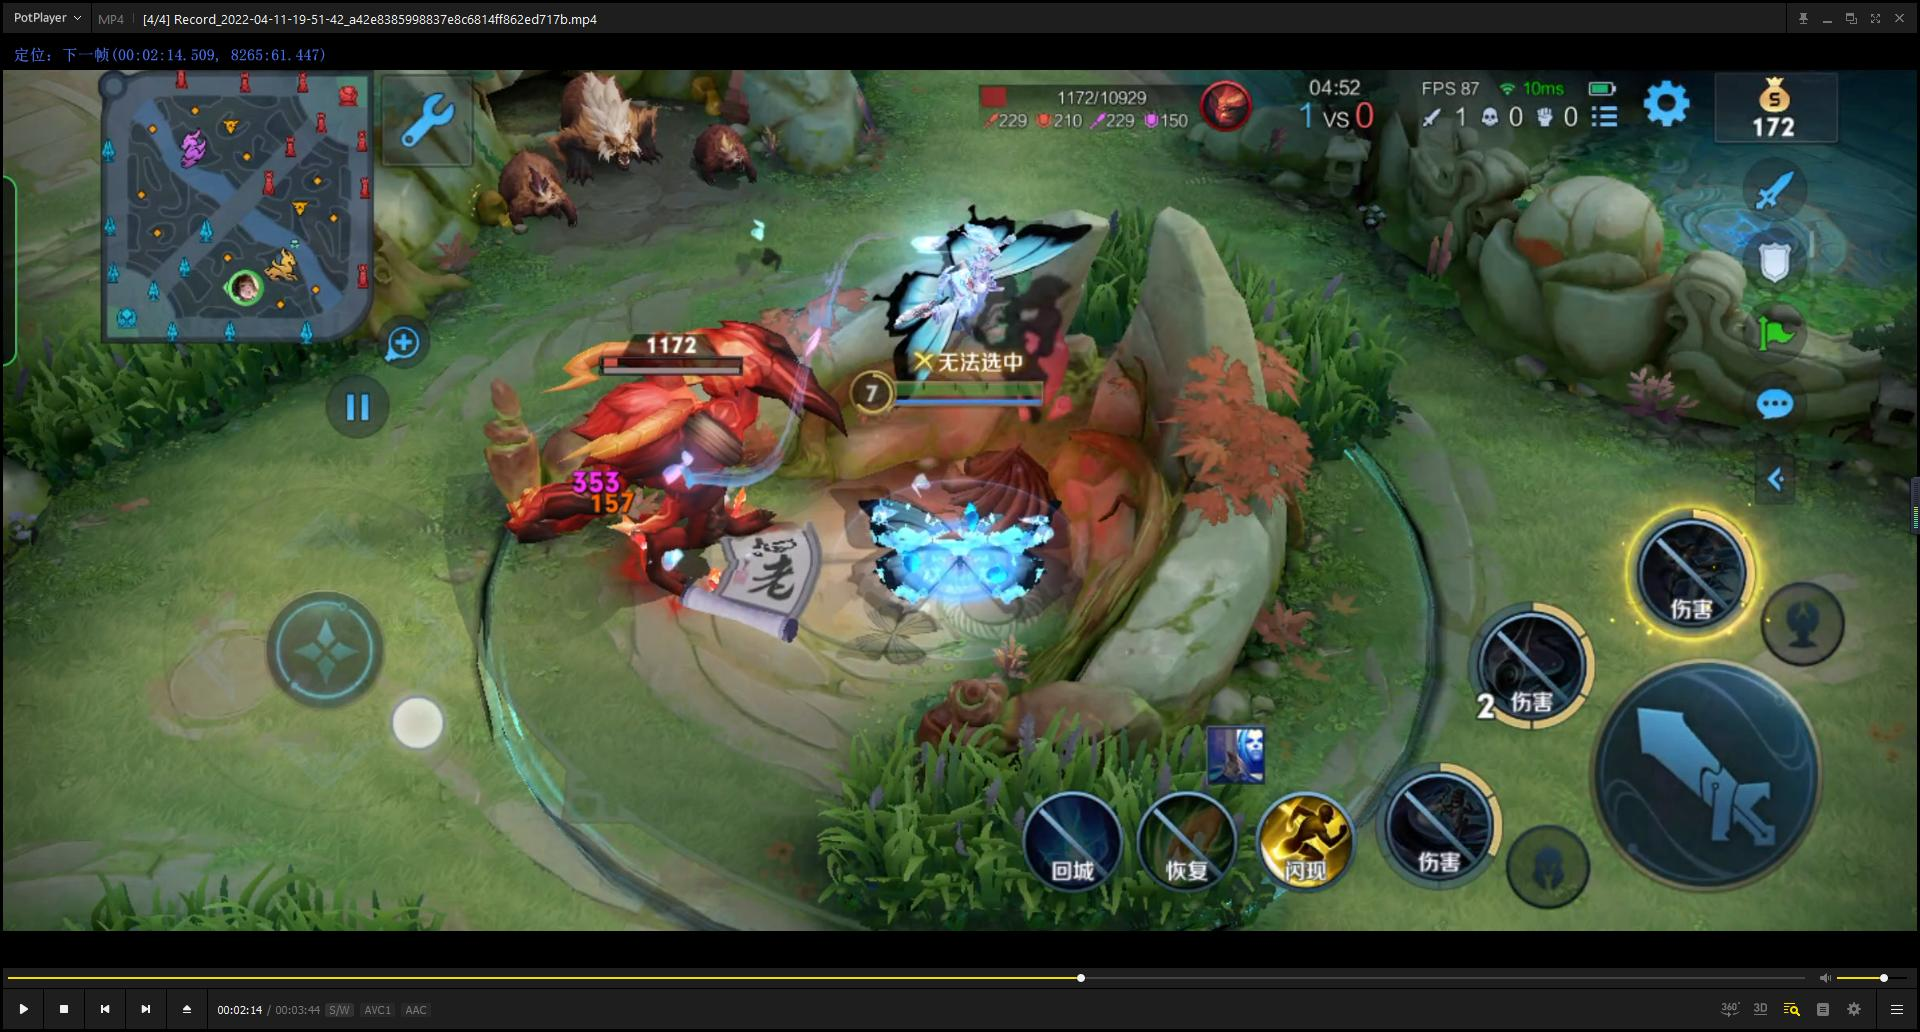Buff: (471, 294, 850, 616)
Hero: (851, 220, 1083, 634)
Pig: (524, 70, 673, 189), (468, 131, 590, 255), (676, 108, 769, 207)
